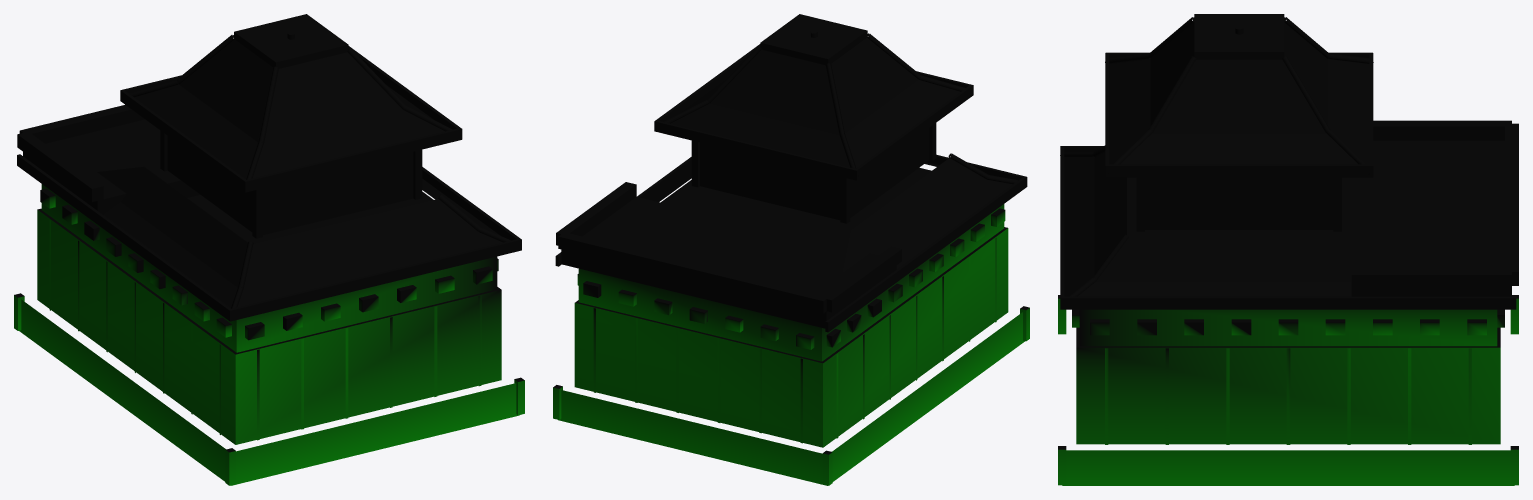
The model's file is l_palacetwr.glb.
3 views of the same model, side by side, from view 1: azimuth 30°, elevation 25°; view 2: azimuth 150°, elevation 25°; view 3: azimuth 270°, elevation 25° (orthographic). The views are drawn at different scales.
Visible parts, largest first — view 1: lod0; view 2: lod0; view 3: lod0.
Boxes of the visible parts, box(x1,y1,x2,y2) form: lod0: box(14, 14, 524, 485); lod0: box(553, 14, 1029, 485); lod0: box(1058, 14, 1518, 485).
Size of what is drawn, in the model's own units: 13 by 15 by 16.4.
